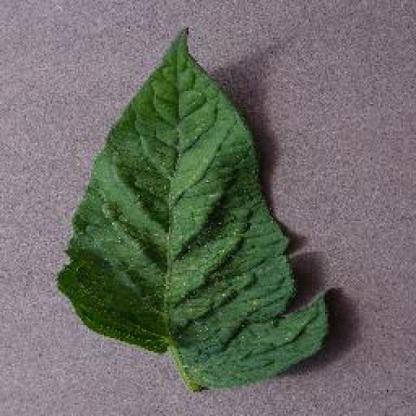Tomato_Spider_Mites: (57, 28, 332, 385)
